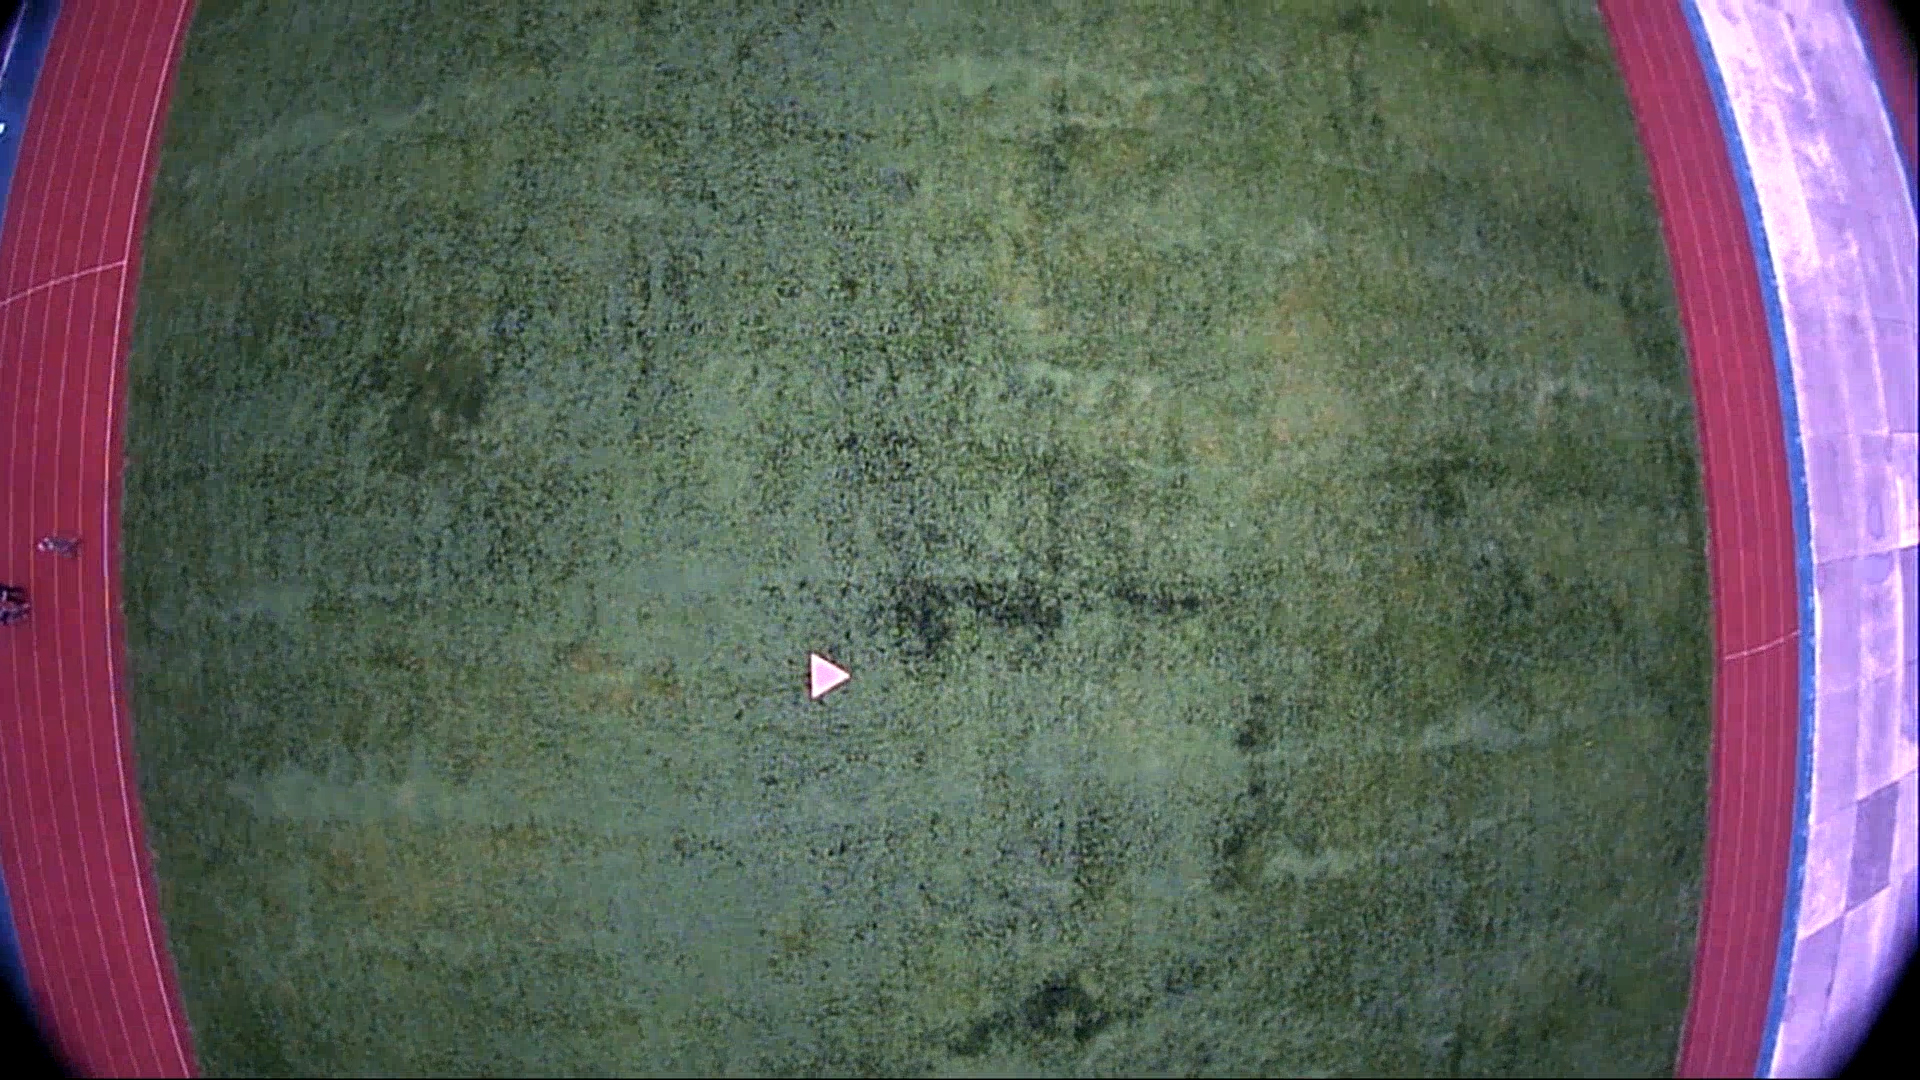triangle: (803, 649, 855, 702)
